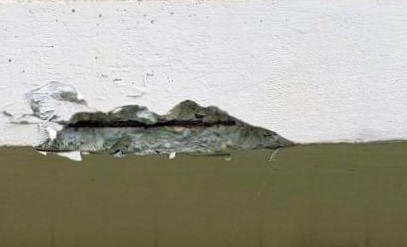Exposed reinforcement: (67, 119, 238, 129)
Spalling: (34, 99, 299, 158)
